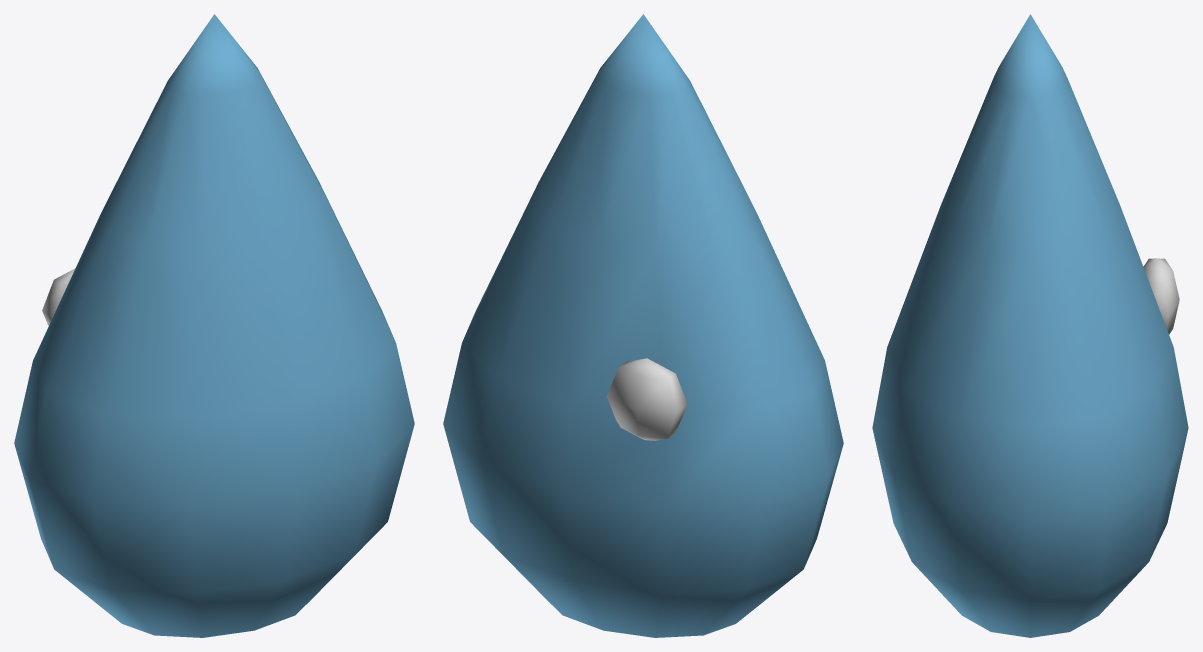
Rendered from mark_sweat.glb.
3 views of the same model, side by side, from view 1: azimuth 30°, elevation 25°; view 2: azimuth 150°, elevation 25°; view 3: azimuth 270°, elevation 25° (orthographic).
Parts seen in each view (by area): view 1: mark_sweat; view 2: mark_sweat; view 3: mark_sweat.
Boxes of the visible parts, bbox=[...] form: mark_sweat: bbox=[14, 14, 414, 637]; mark_sweat: bbox=[443, 14, 843, 637]; mark_sweat: bbox=[872, 14, 1188, 637].
Size of the model in its own units: 0.12 by 0.19 by 0.09.
